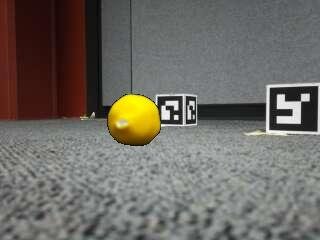lemon: (109, 95, 161, 146)
